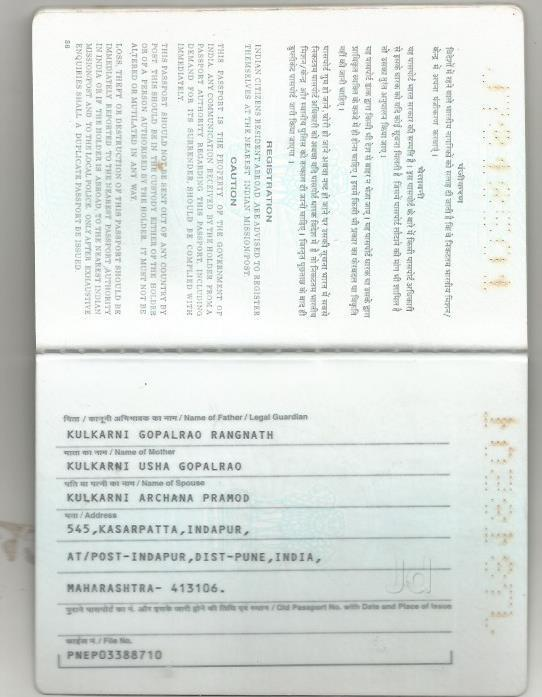File_no: (61, 645, 169, 663)
address: (64, 522, 324, 599)
father_name: (59, 421, 294, 444)
mother_name: (59, 453, 268, 478)
spouse_name: (59, 486, 259, 508)
